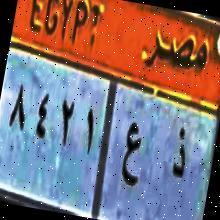1: (74, 105, 104, 168)
2: (52, 96, 80, 156)
4: (30, 91, 54, 151)
8: (5, 77, 33, 143)
ain: (113, 116, 148, 204)
zaal: (163, 124, 193, 188)
